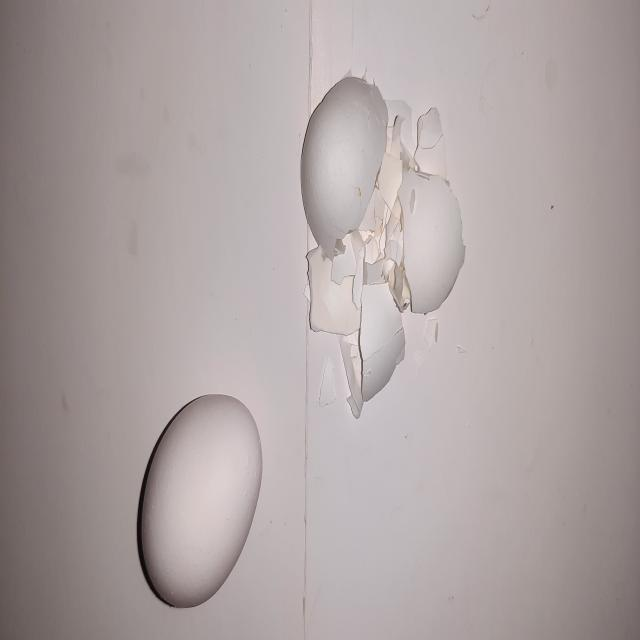egg shell: (137, 389, 266, 612), (303, 72, 393, 261), (388, 159, 475, 319), (348, 259, 417, 414), (312, 253, 366, 329), (397, 101, 453, 162)
